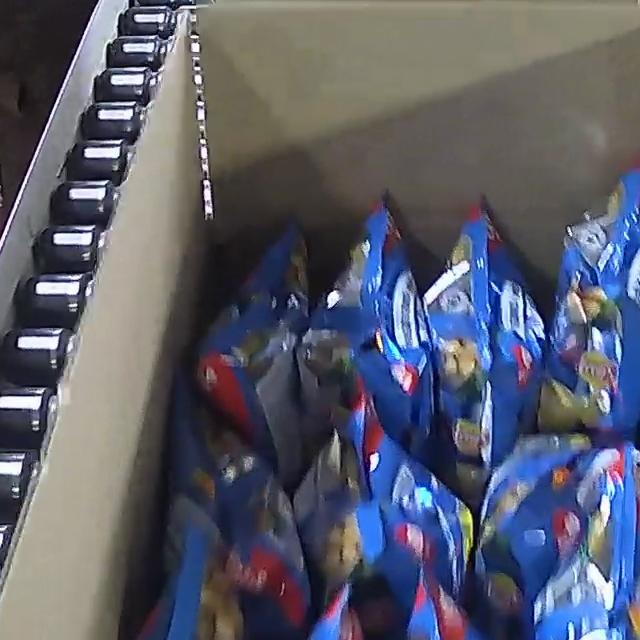paprika: (94, 160, 640, 640)
